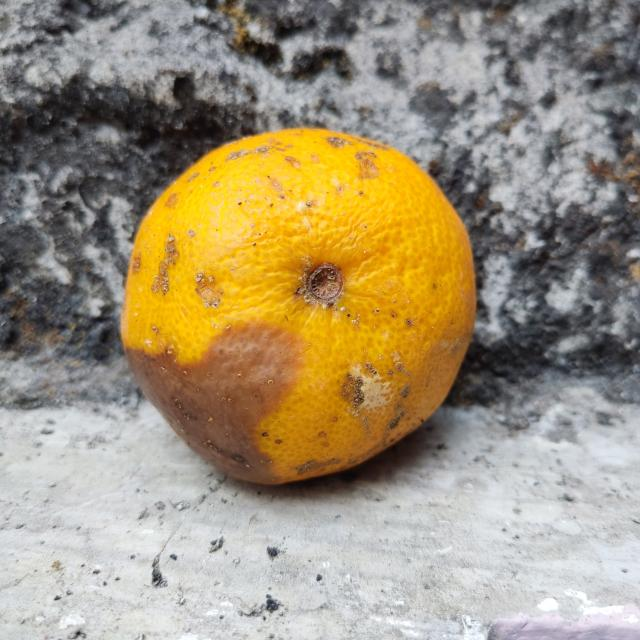orange: (118, 126, 478, 487)
